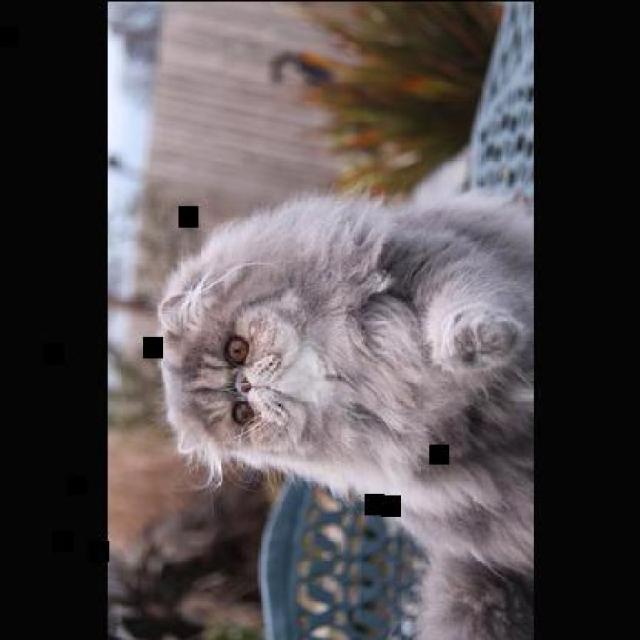unauthorized: (155, 187, 534, 638)
